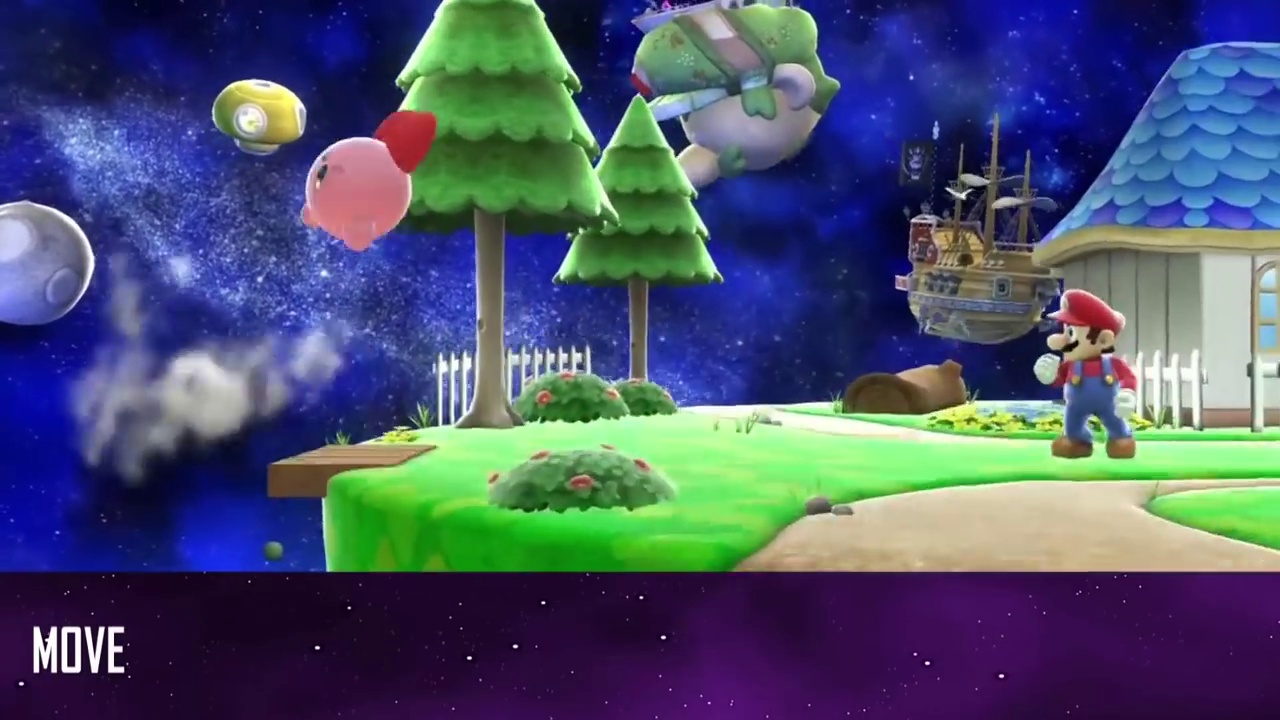Mario: (1031, 290, 1138, 459)
